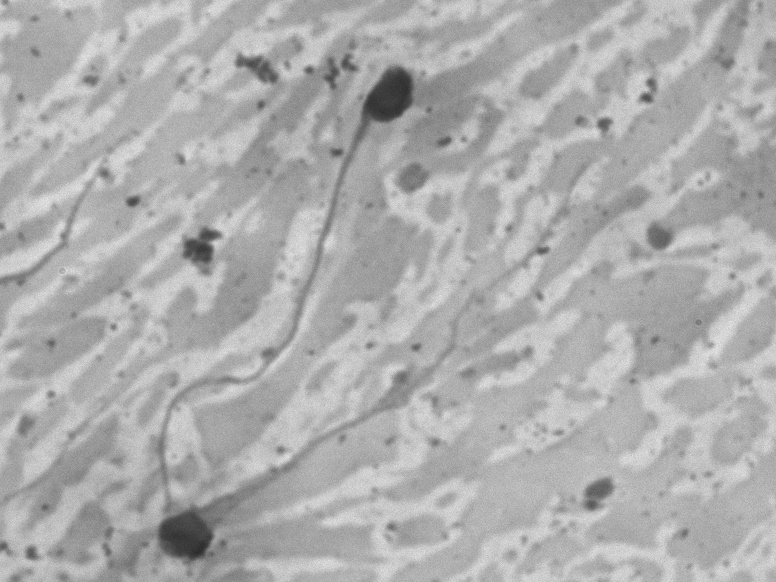Abnormal: (146, 129, 618, 573), (130, 39, 477, 349)
